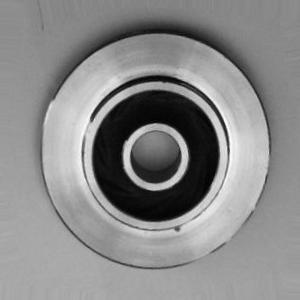defect: (155, 202, 201, 249)
